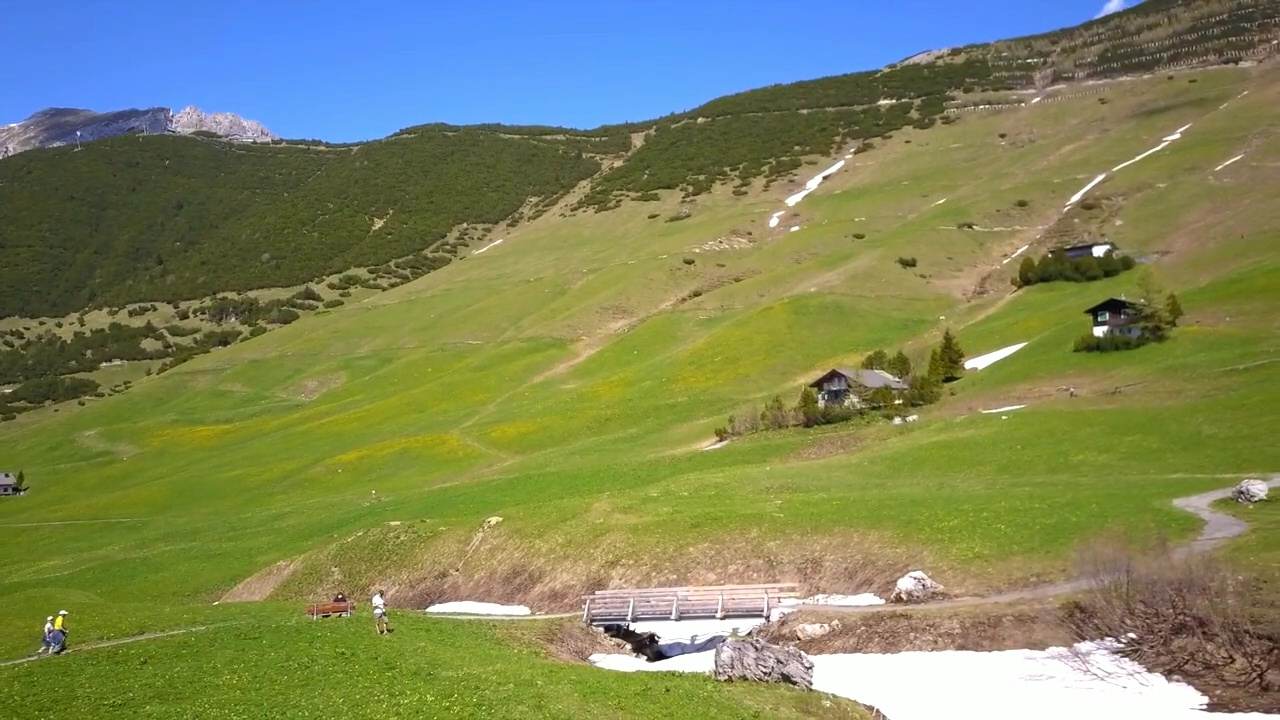insan: (364, 586, 392, 637), (50, 609, 72, 655), (38, 613, 57, 655)
